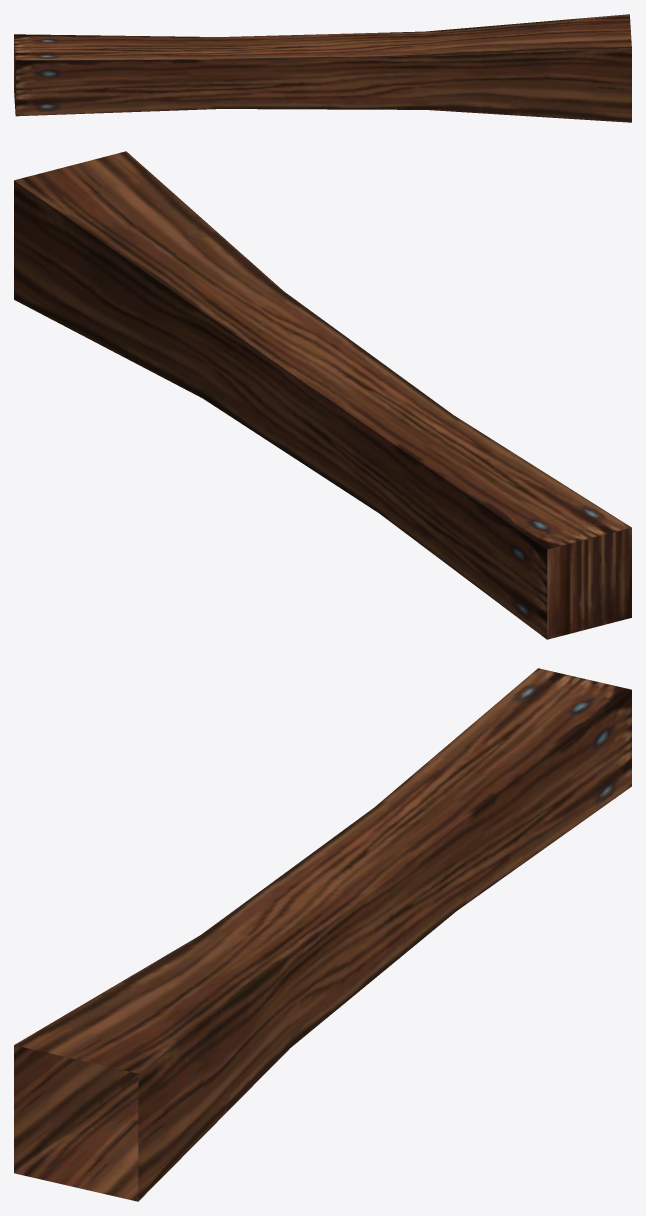
File: OVERHILL_A_01_POST29.fbx
3 views of the same model, one above another, from view 1: azimuth 30°, elevation 25°; view 2: azimuth 150°, elevation 25°; view 3: azimuth 270°, elevation 25° (orthographic). The views are drawn at different scales.
Parts seen in each view (by area): view 1: OVERHILL_A_01_POST29; view 2: OVERHILL_A_01_POST29; view 3: OVERHILL_A_01_POST29.
Boxes of the visible parts, x1,y1,x2,y2 form: OVERHILL_A_01_POST29: (14, 14, 631, 122); OVERHILL_A_01_POST29: (14, 151, 631, 639); OVERHILL_A_01_POST29: (14, 668, 631, 1201).
Bounding box in the file's own units: 15684 × 2225 × 9726.
Materials: 1 (1 with a texture image).
